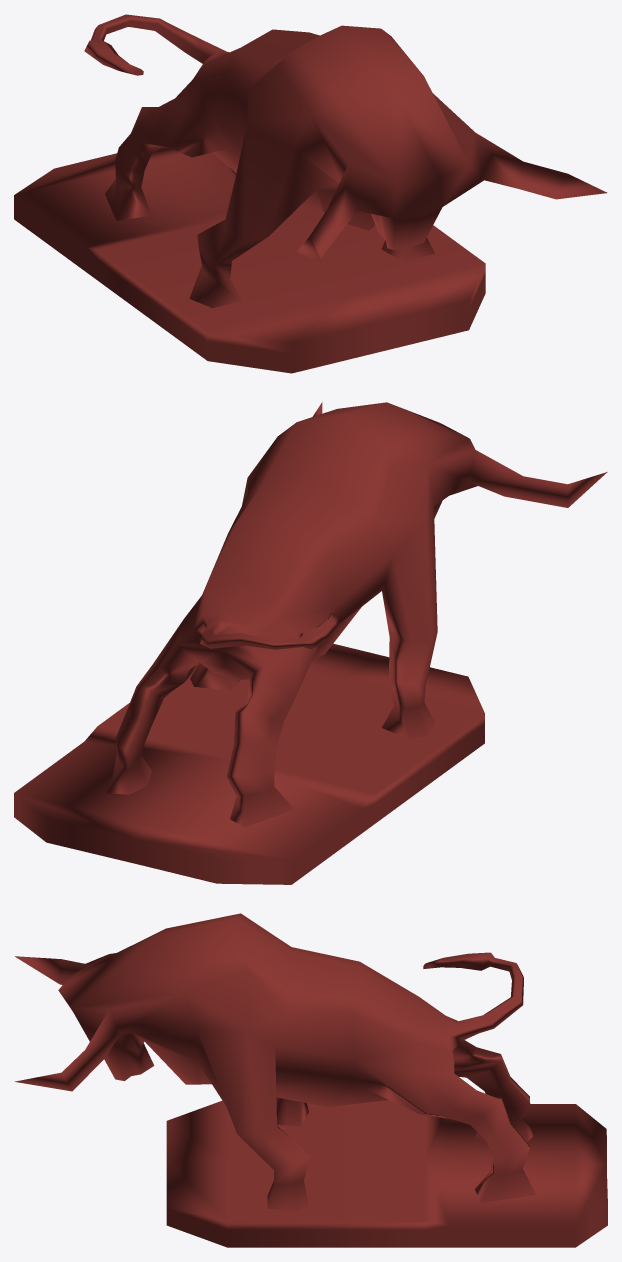
Rendered from lb_bull2.fbx.
3 views of the same model, one above another, from view 1: azimuth 30°, elevation 25°; view 2: azimuth 150°, elevation 25°; view 3: azimuth 270°, elevation 25° (orthographic). The views are drawn at different scales.
Visible parts, largest first — view 1: polySurface5; view 2: polySurface5; view 3: polySurface5.
Boxes of the visible parts, <box> form: polySurface5: <box>14,14,607,373</box>; polySurface5: <box>14,402,607,884</box>; polySurface5: <box>14,913,607,1247</box>.
Size of the model in its own units: 196 by 196 by 393.
